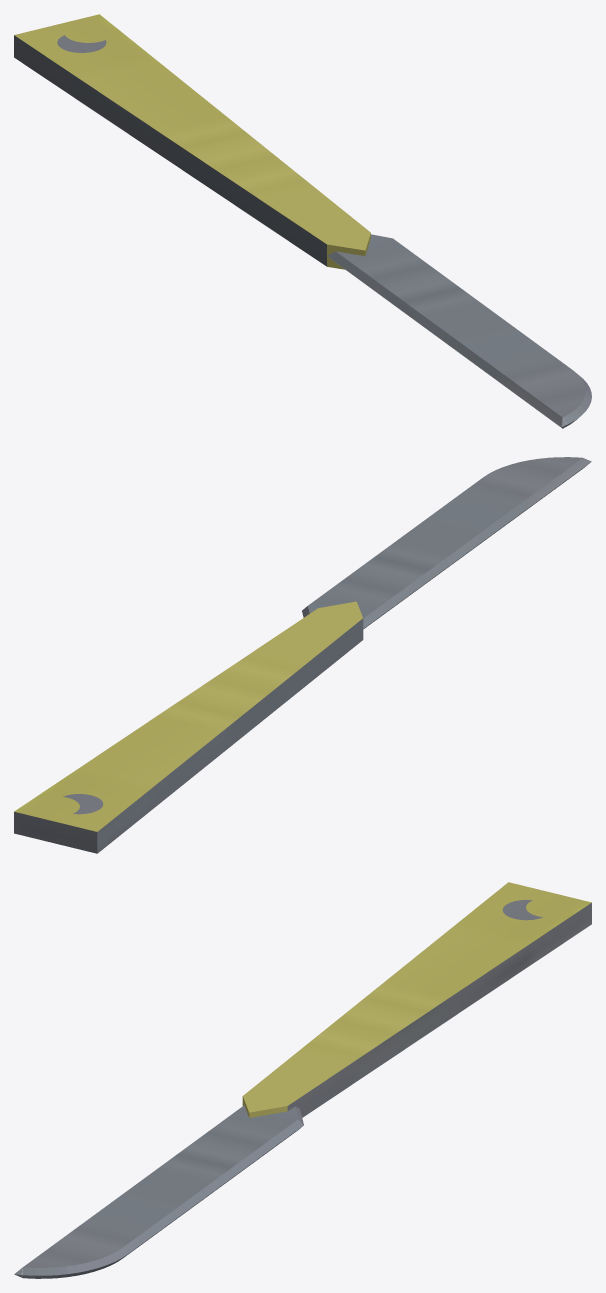
File: knife.dae
The picture shows the model from 3 angles, top to bottom: view 1: azimuth 30°, elevation 25°; view 2: azimuth 150°, elevation 25°; view 3: azimuth 330°, elevation 25°; orthographic projection. The views are drawn at different scales.
Parts seen in each view (by area): view 1: Component_4 (×2), Component_5; view 2: Component_4 (×2), Component_5; view 3: Component_4 (×2), Component_5.
Boxes of the visible parts, left/top/right/bottom form: Component_4 (×2): left=14, top=14, right=370, bottom=269; Component_5: left=327, top=234, right=591, bottom=428; Component_4 (×2): left=14, top=601, right=363, bottom=853; Component_5: left=302, top=457, right=591, bottom=629; Component_4 (×2): left=242, top=882, right=591, bottom=1117; Component_5: left=14, top=1105, right=303, bottom=1278.
Bounding box in the file's own units: 1.01 × 10.68 × 0.25.
Materials: 3 (2 with a texture image).
